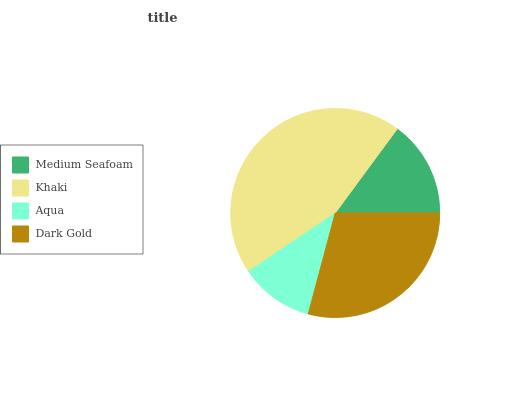legend: (0, 139, 144, 252)
sector: (230, 110, 395, 272), (308, 212, 441, 318), (248, 209, 336, 314), (334, 127, 441, 213)
